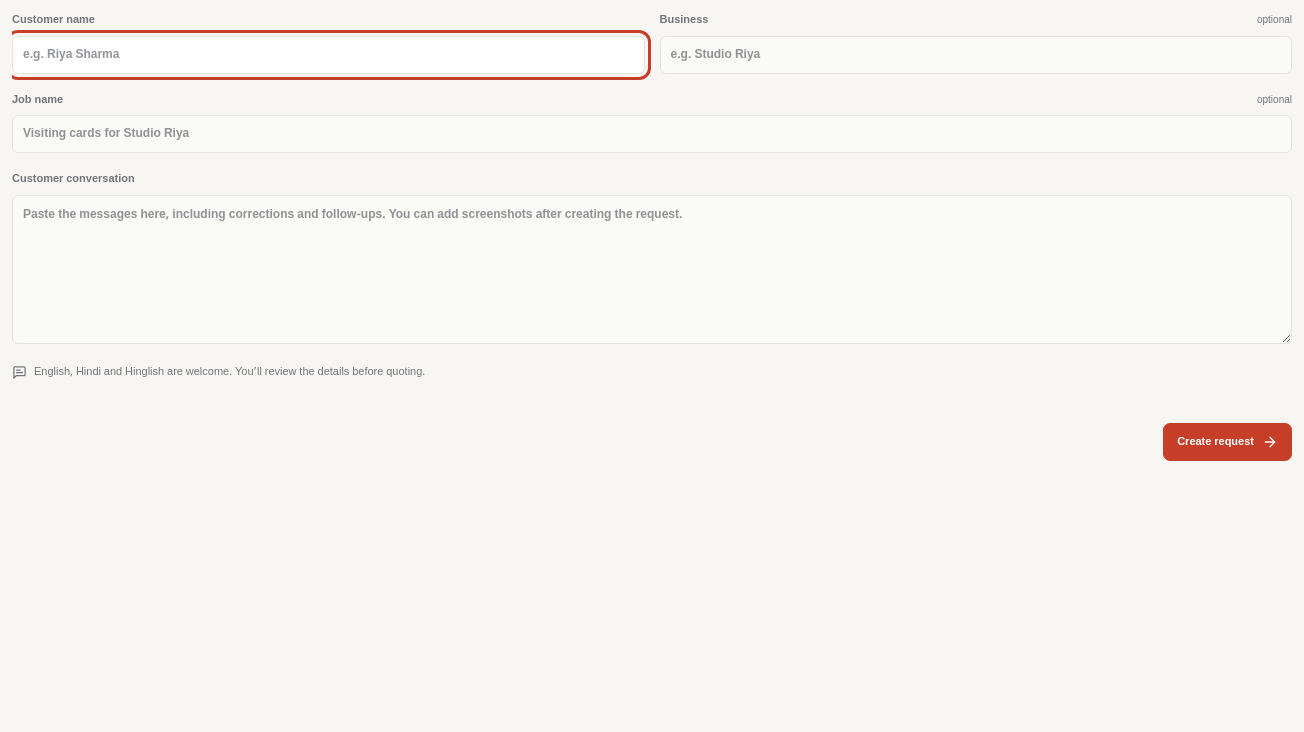
Scenario: keeps the customer message visible when saving fails
The width and height of the screenshot is (1304, 732).
In the field labelled "Customer name": (328, 54) [12,36,644,74], type "Riya"
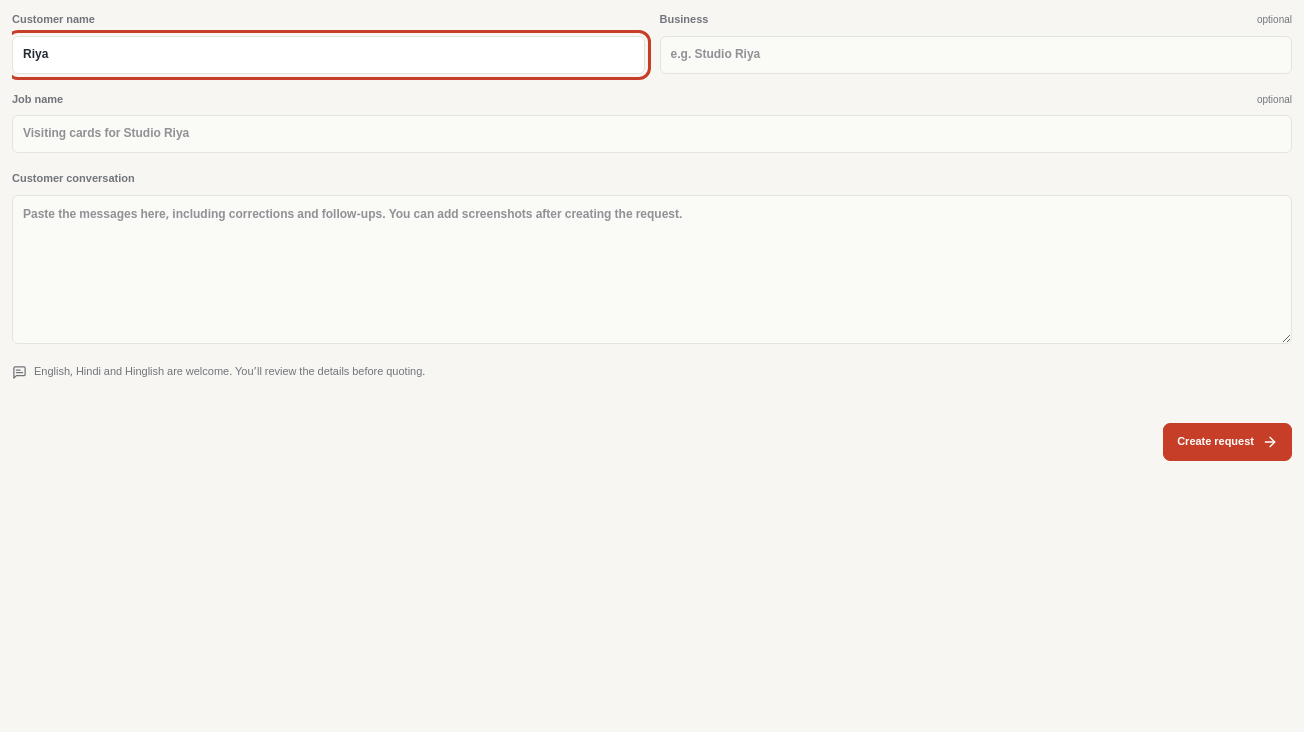
Replace the text in the text box labelled "Customer conversation" with "500 cards, matte finish": (652, 269) [12,194,1292,344]
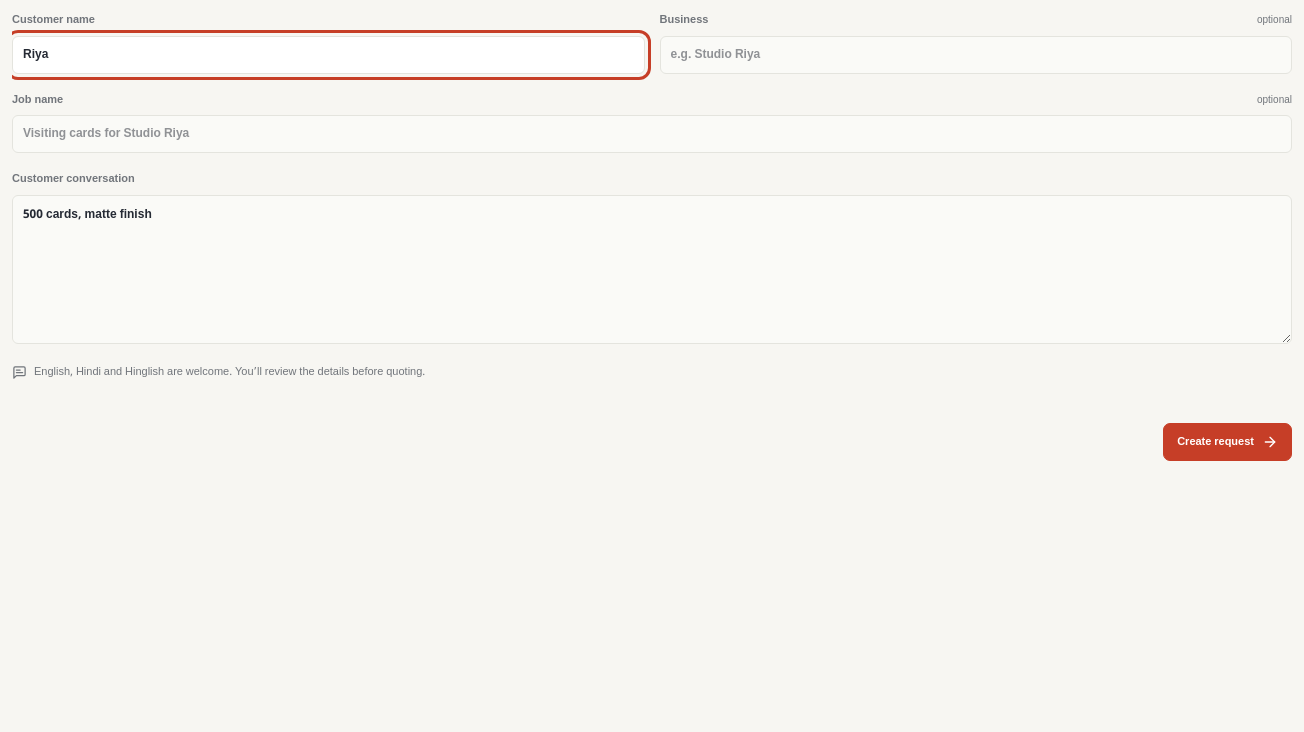
Click the button "Create request": click(1228, 442) [1163,423,1292,461]
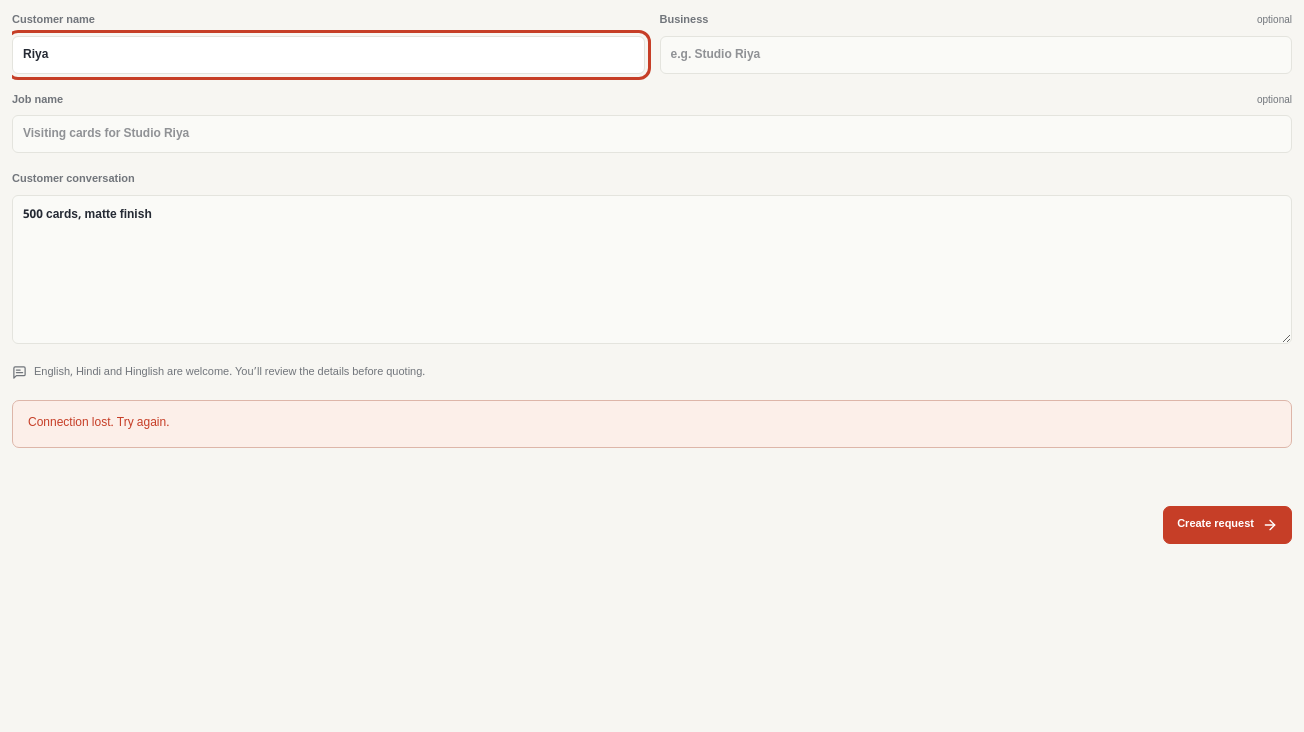
Check: the message shows "Connection lost", box [28,415,169,431]
